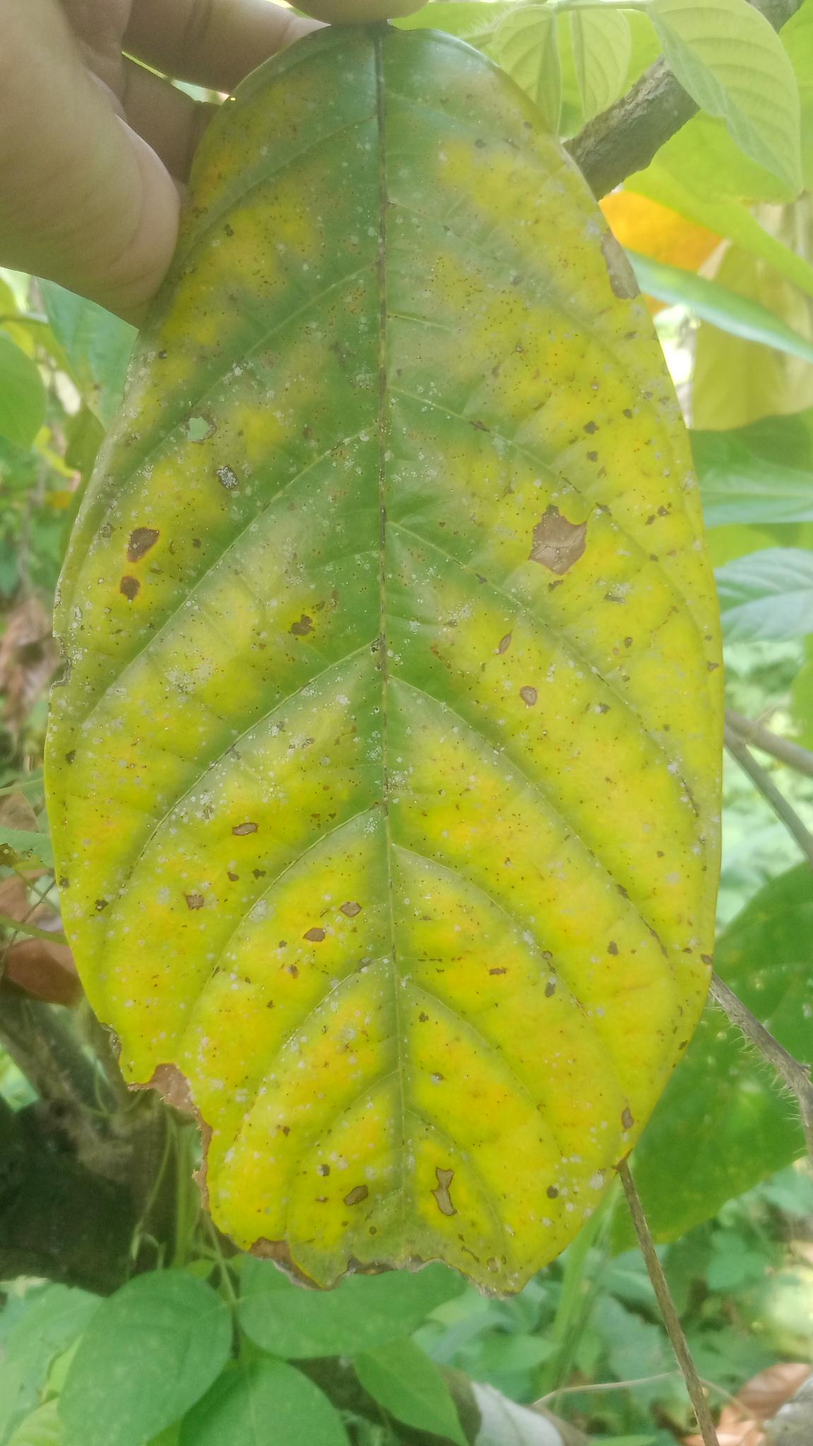Fosforo: (45, 41, 726, 1273)
